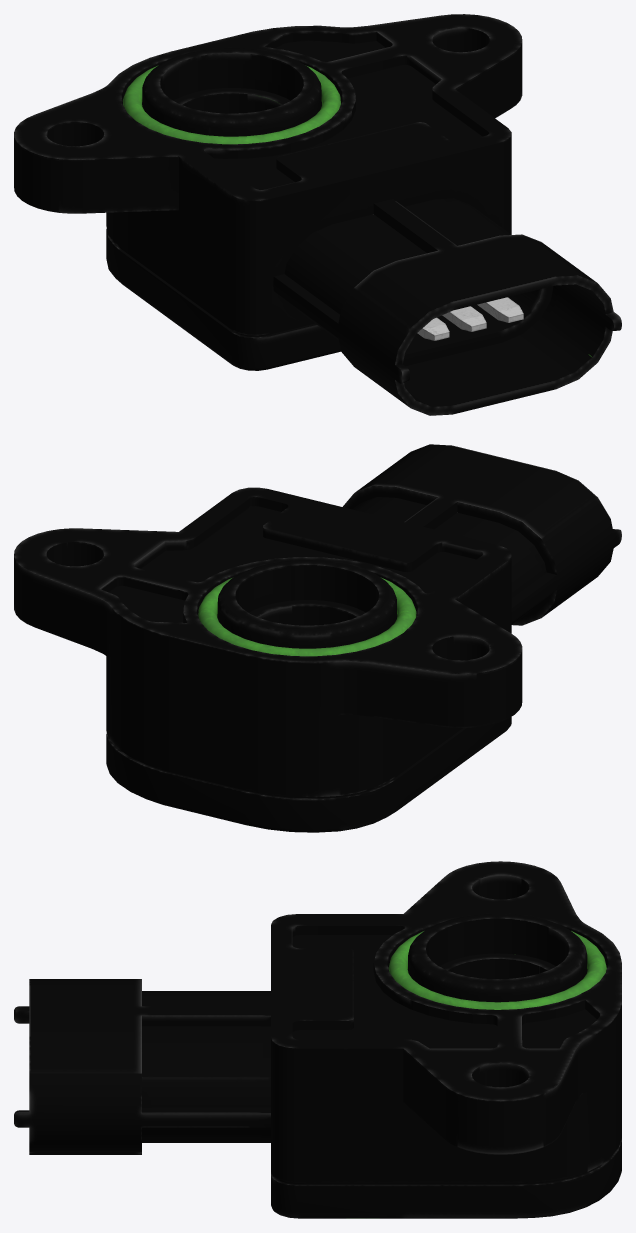
Rendered from throttPosSnsr.glb.
The picture shows the model from 3 angles, top to bottom: view 1: azimuth 30°, elevation 25°; view 2: azimuth 150°, elevation 25°; view 3: azimuth 270°, elevation 25°; orthographic projection.
Visible parts, largest first — view 1: throttPosSnsr; view 2: throttPosSnsr; view 3: throttPosSnsr.
Part boxes in pixels (left/top/right/bottom): throttPosSnsr: left=14, top=14, right=621, bottom=415; throttPosSnsr: left=14, top=444, right=621, bottom=832; throttPosSnsr: left=14, top=861, right=621, bottom=1218.
Size of the model in its own units: 2.67 by 0.9645 by 2.86.
Materials: 1 (1 with a texture image).
